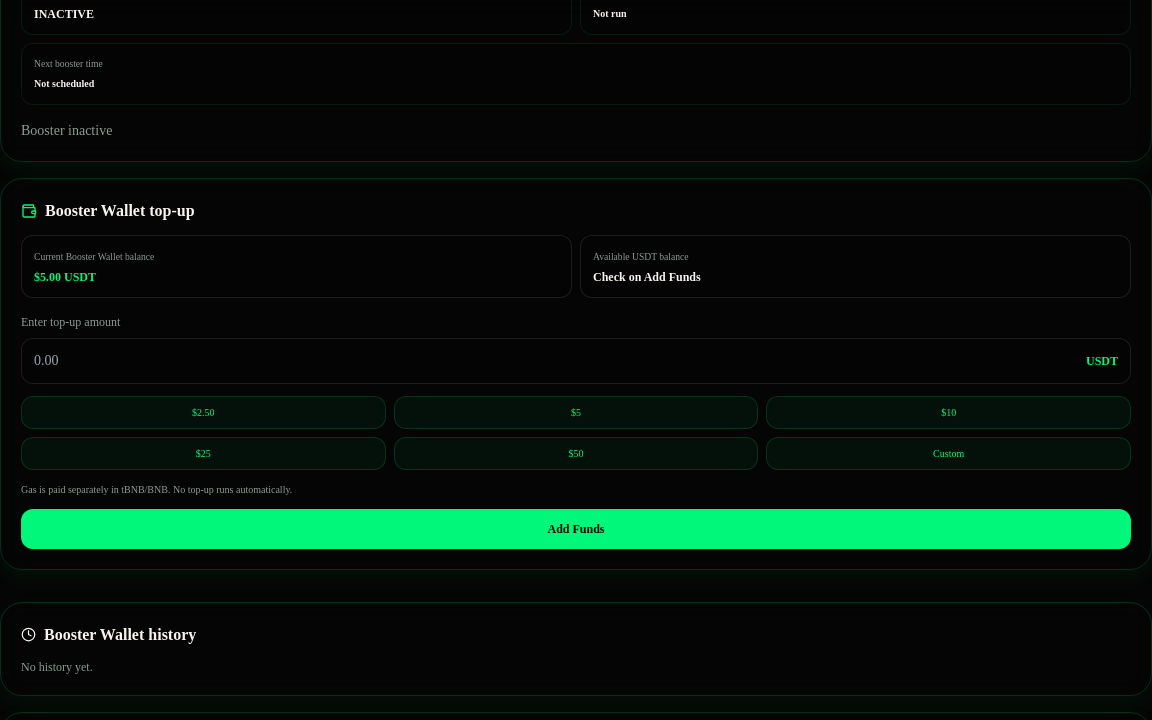
custom Booster top-up amounts › rejects an amount above available balance before wallet approval
The image size is (1152, 720).
(page scrolled)
Expected: the heading "Booster Wallet top-up" is shown, [45, 198, 195, 222]
In the field with placeholder "0.00": (560, 360) [34, 338, 1086, 382], type "5"
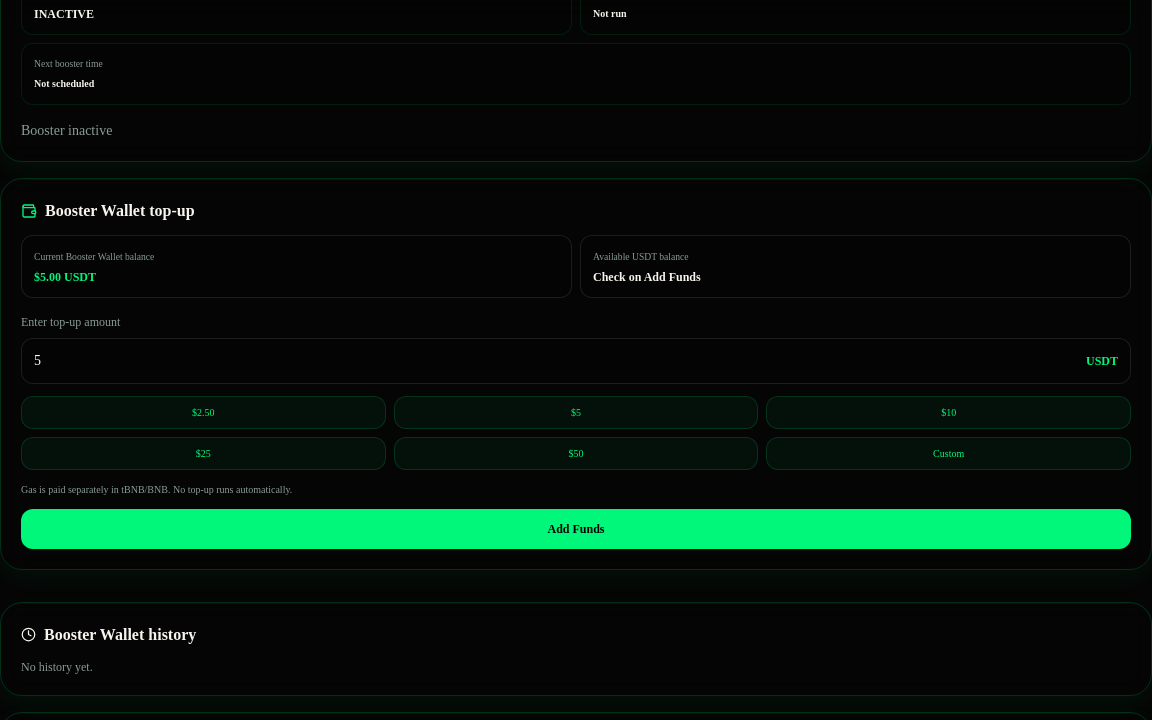
Click the button "Add Funds": (576, 528) [21, 508, 1131, 548]
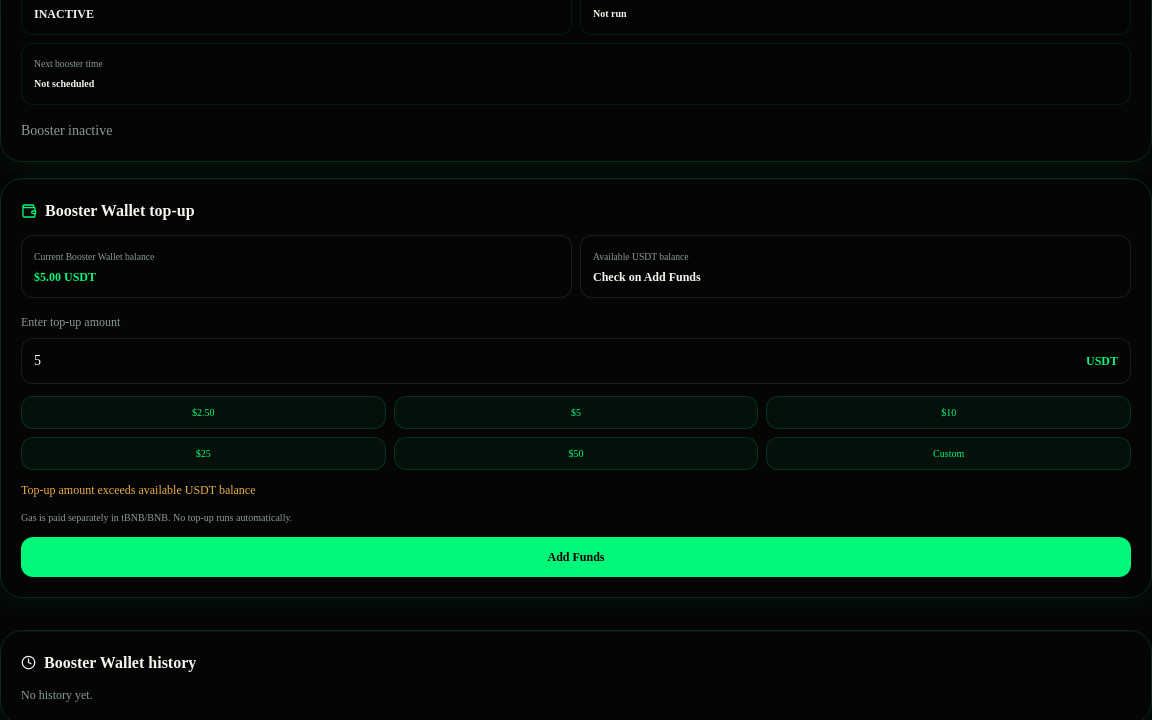
Expected: the text "Top-up amount exceeds available USDT balance" is shown, [21, 482, 256, 496]
